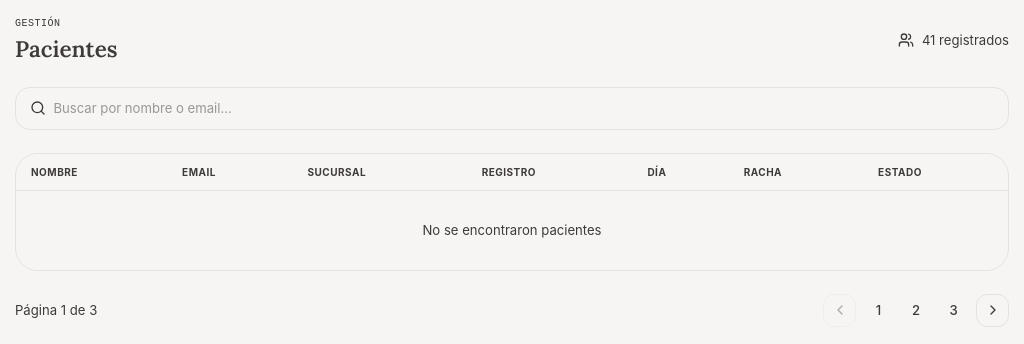
Test case: buscar desde otra página consulta al servidor desde la primera página
Click the button named "Página siguiente". click: (992, 310)
box: [976, 294, 1009, 326]
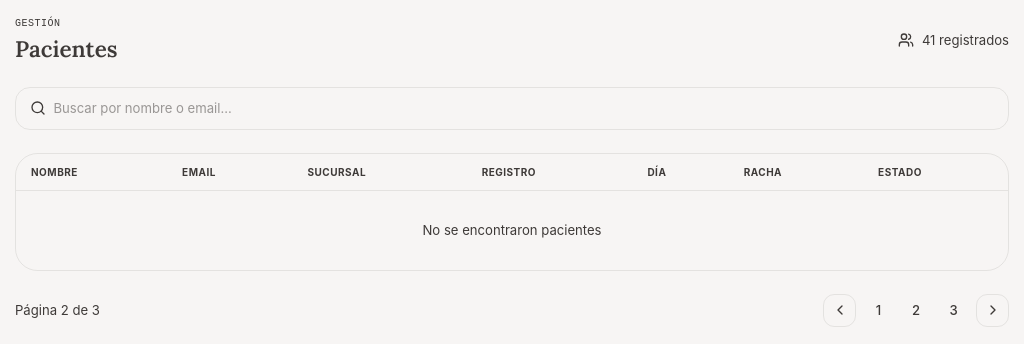
Type "Ana" into the field named "Buscar pacientes". click: (512, 108)
box: [15, 87, 1009, 130]
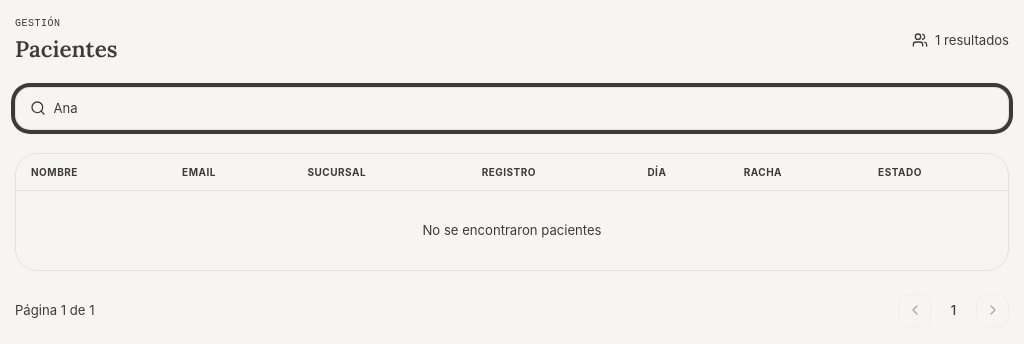
Result: the text "Página 1 de 1" is shown at [15, 301, 94, 320]
